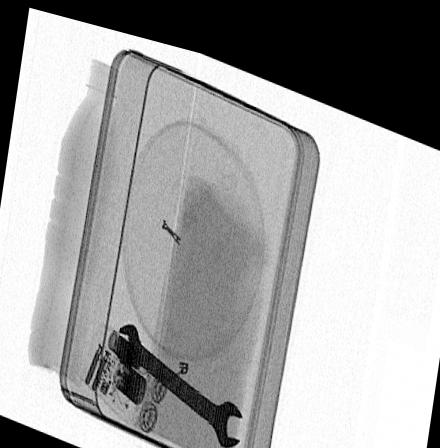Wrench: (114, 312, 245, 439)
